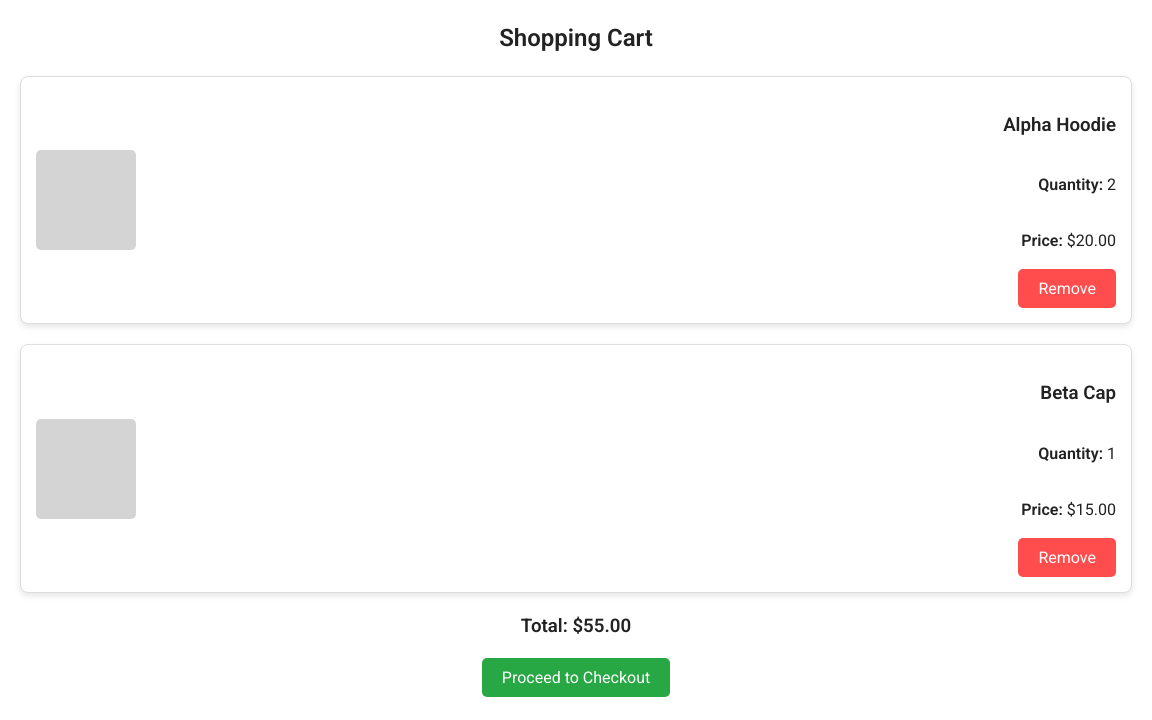
Test: <Cart /> › removes an item when clicking Remove and updates the total
The image size is (1152, 720).
Click the button "Remove" below "20.00" at (1067, 289), box [1018,269,1116,308]
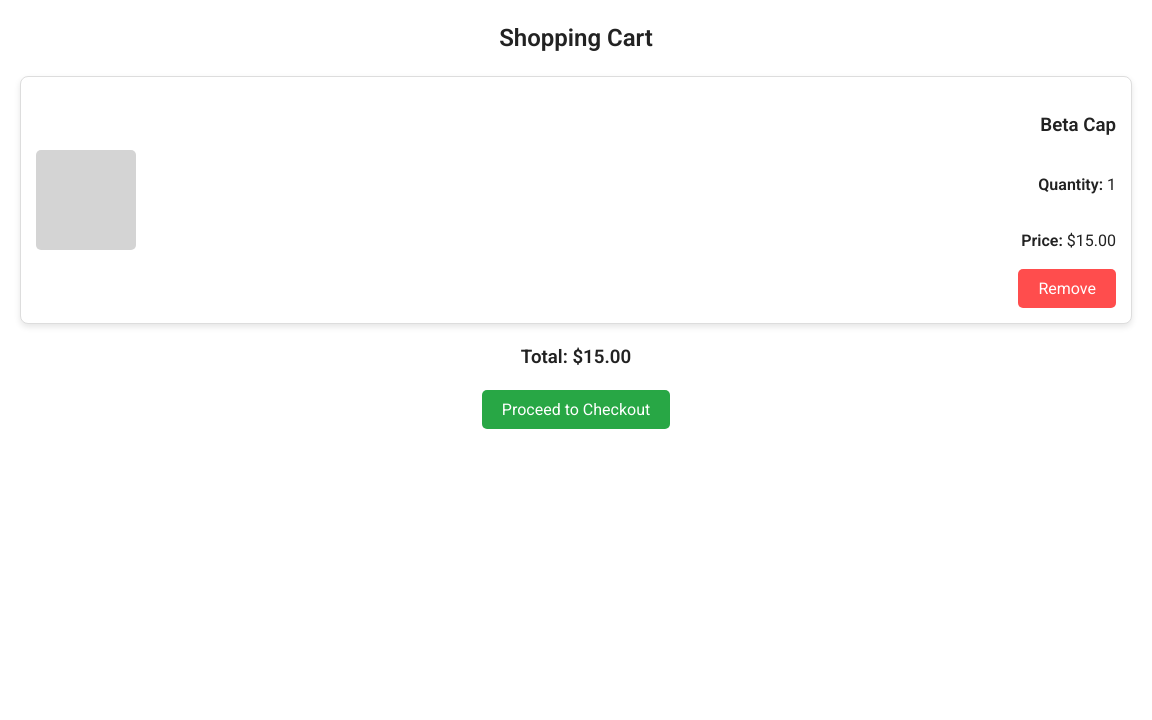
Expected: the heading "Beta Cap" is shown, [1040,111,1116,139]
Expected: the heading "Alpha Hoodie" is gone
Expected: the heading "Total: $15.00" is shown, [521,346,631,368]
